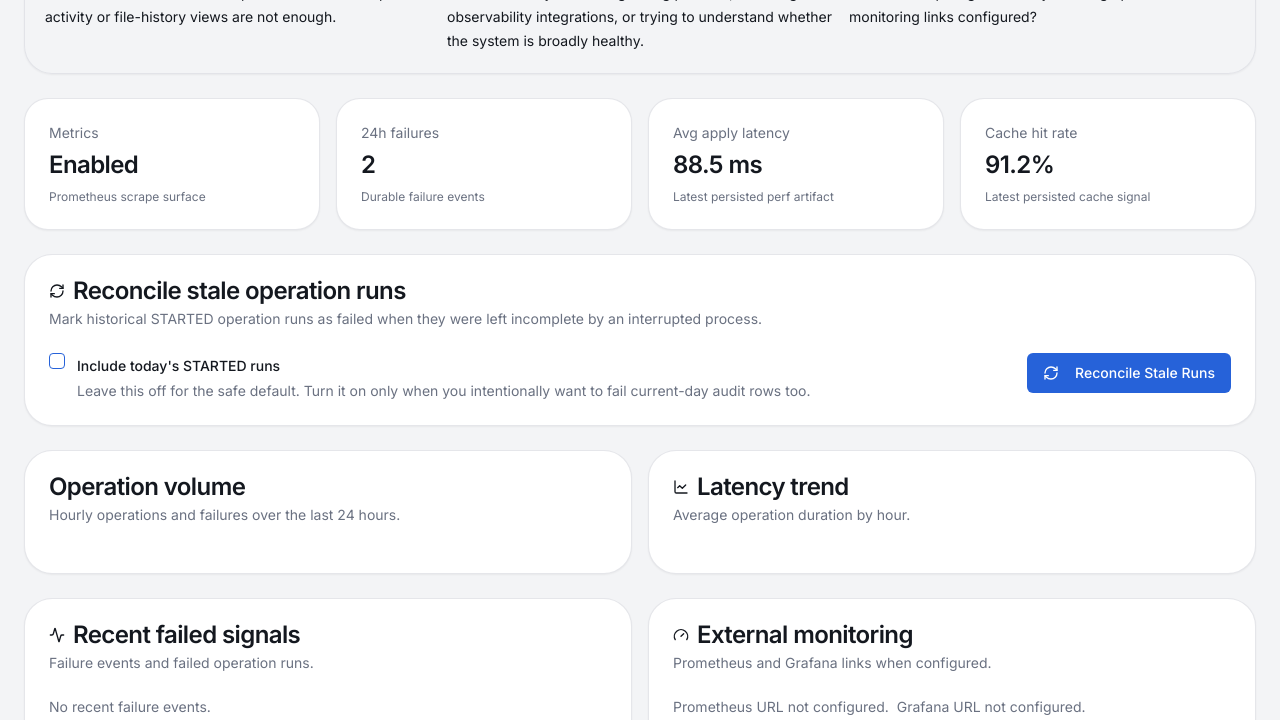
it: Admin page › passes the current-day override when selected
(page scrolled)
Click the checkbox named "Include today's STARTED runs".
click(57, 360)  # box [49,352,65,368]
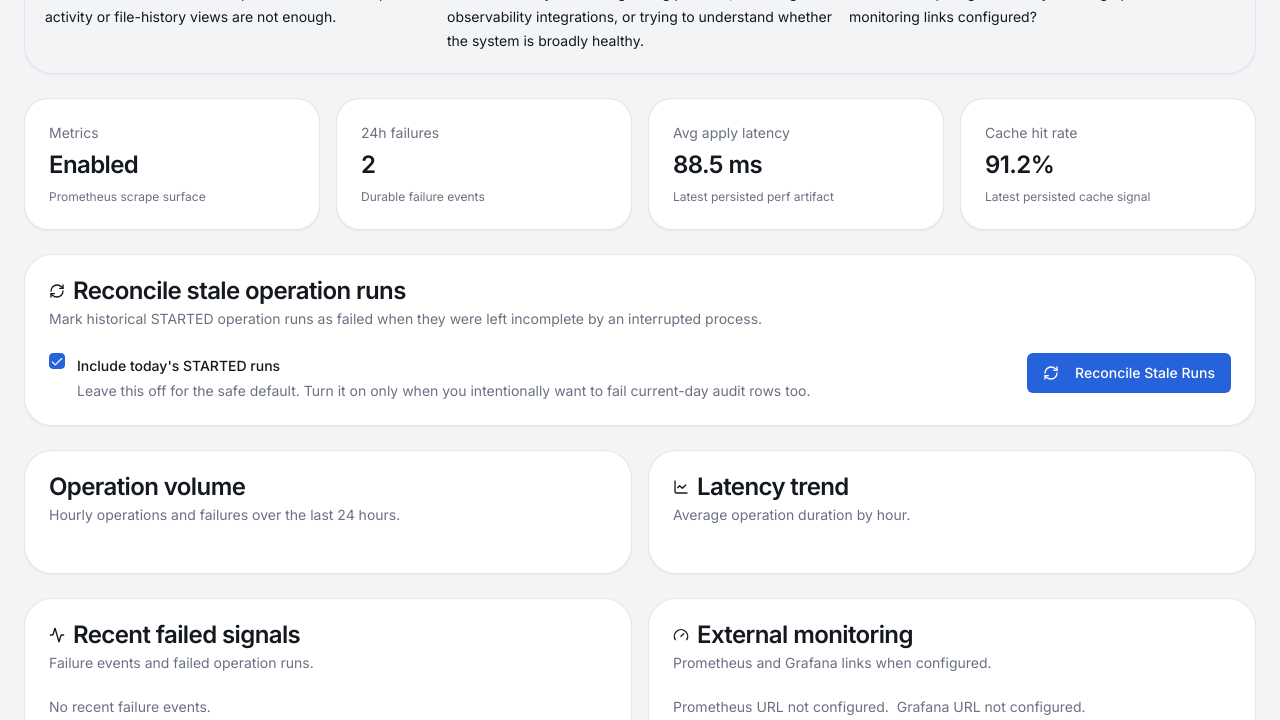
Click the button "Reconcile Stale Runs".
click(1129, 372)  # box [1027,352,1231,392]
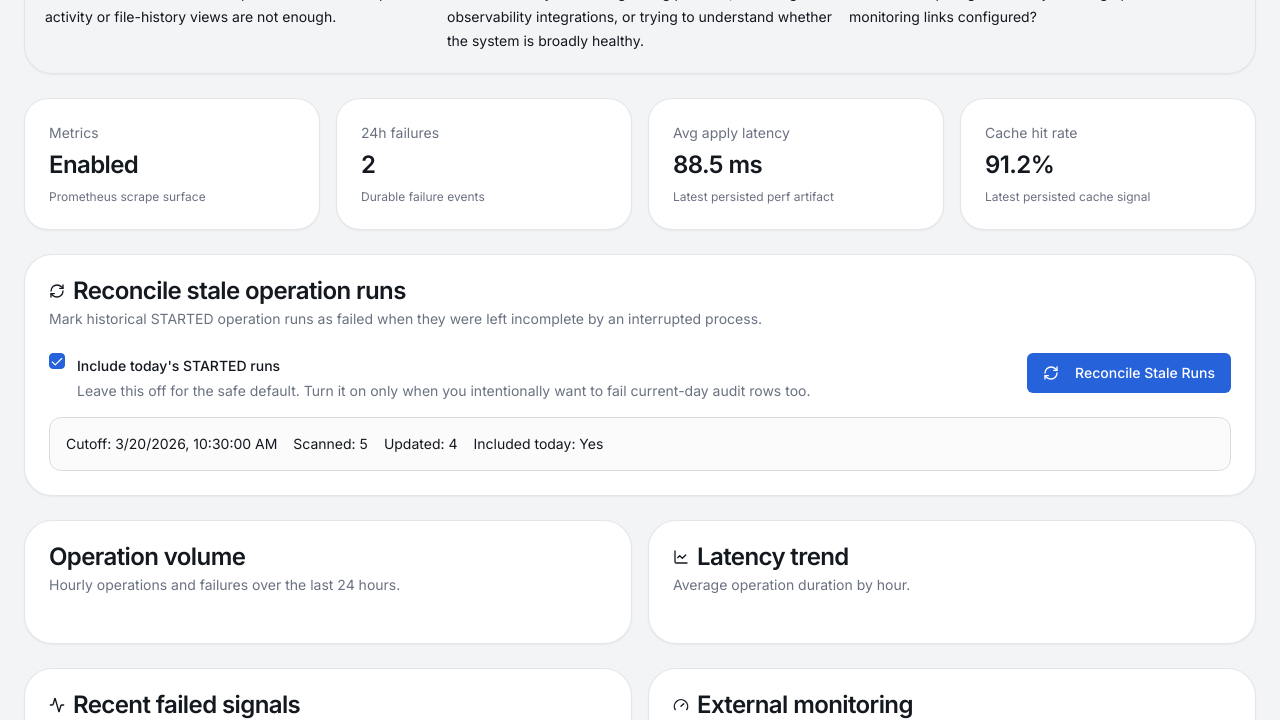
Now the text "Included today: Yes" is shown, box [474,434,603,454]
